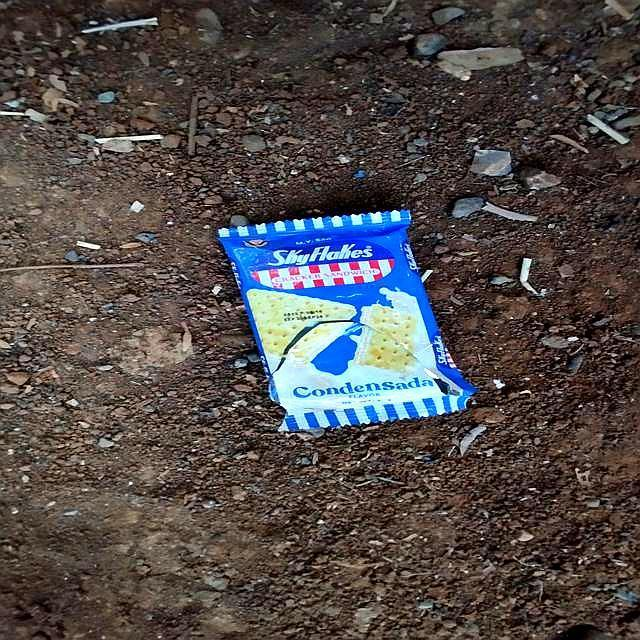Non-biodegradable: (216, 208, 479, 435)
